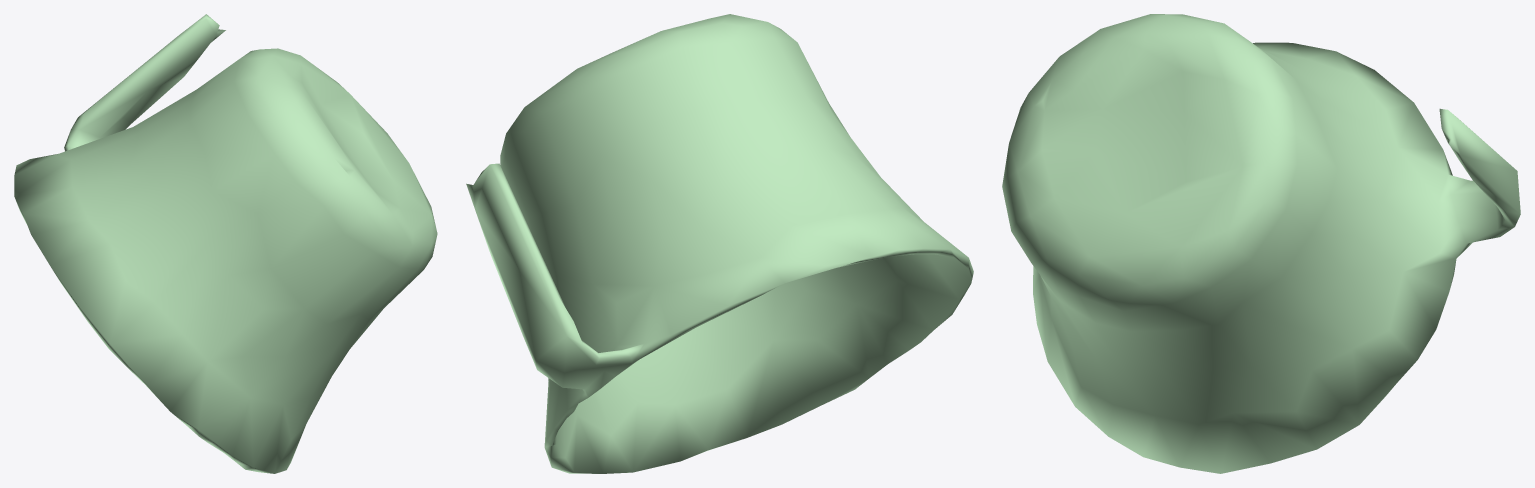
The model's file is mug2_0.dae.
The picture shows the model from 3 angles, left to right: view 1: azimuth 30°, elevation 25°; view 2: azimuth 150°, elevation 25°; view 3: azimuth 270°, elevation 25°; orthographic projection. The views are drawn at different scales.
Visible parts, largest first — view 1: GreenCup_800_tex_019; view 2: GreenCup_800_tex_019; view 3: GreenCup_800_tex_019.
Boxes of the visible parts, x1,y1,x2,y2 form: GreenCup_800_tex_019: (14,14,437,473); GreenCup_800_tex_019: (466,14,973,473); GreenCup_800_tex_019: (1002,14,1520,473).
Size of the model in its own units: 0.2293 by 0.2487 by 0.2284.
